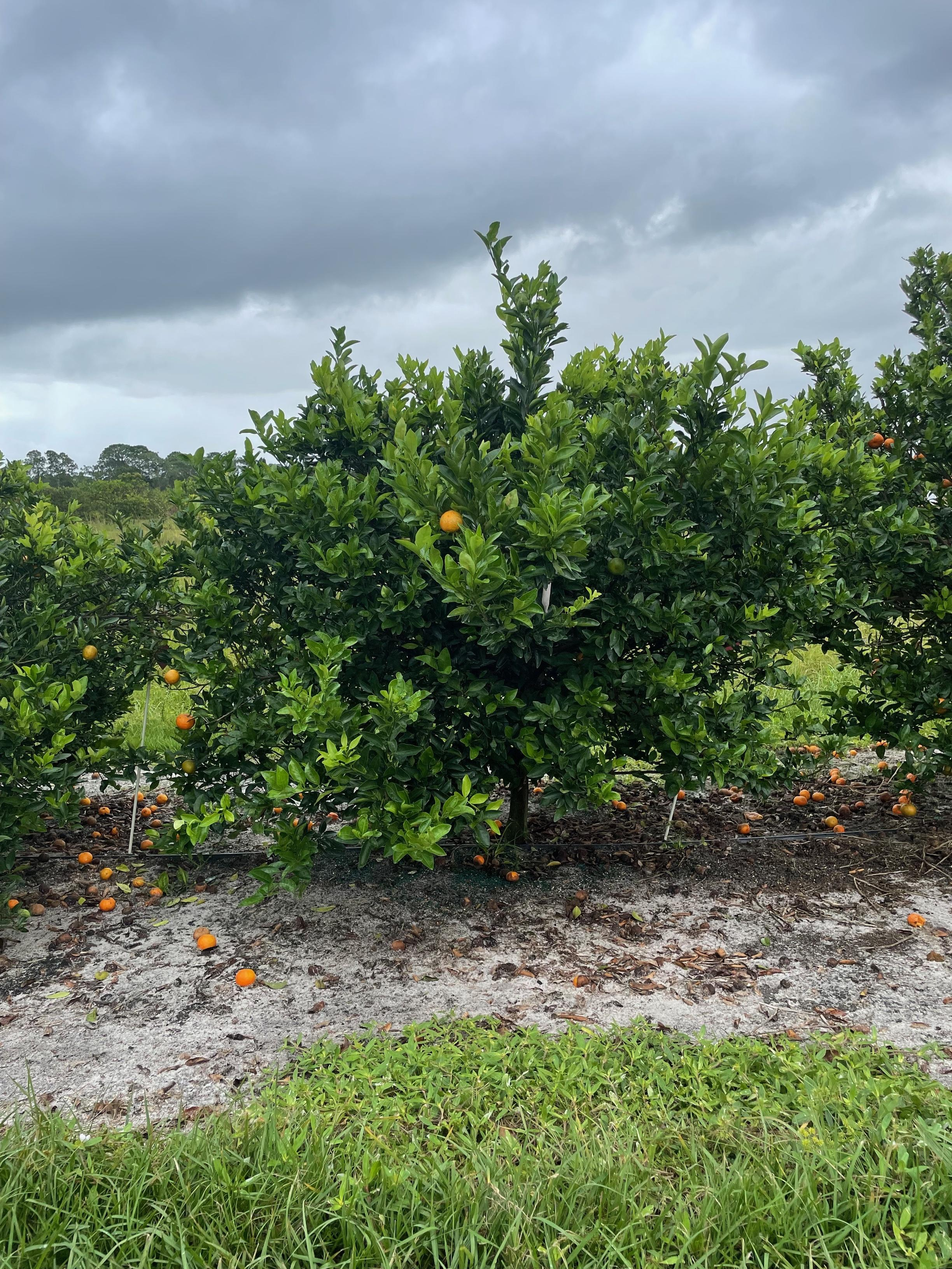fruit_on_ground: (436, 506, 467, 536), (605, 554, 628, 578), (174, 711, 196, 732), (864, 430, 885, 450), (80, 643, 100, 662), (932, 694, 950, 715), (163, 667, 181, 686), (880, 435, 898, 452), (900, 801, 917, 819), (180, 758, 198, 775), (939, 475, 952, 492)
fruit_on_tree: (193, 930, 217, 951), (235, 967, 257, 987), (571, 972, 590, 989), (98, 896, 116, 912), (77, 849, 94, 864), (28, 902, 46, 916), (50, 837, 66, 852), (490, 815, 505, 830), (4, 895, 20, 909), (98, 866, 114, 880), (504, 869, 520, 883), (149, 815, 164, 829), (85, 883, 100, 897), (472, 852, 487, 866), (737, 821, 752, 835), (147, 884, 163, 897), (797, 787, 811, 801), (131, 874, 145, 888), (832, 822, 847, 835), (154, 791, 169, 804), (675, 787, 688, 801), (838, 803, 852, 816), (793, 794, 807, 807), (824, 814, 838, 827), (890, 802, 903, 815), (325, 809, 339, 821), (530, 783, 544, 795), (78, 796, 92, 808), (139, 806, 153, 818), (140, 837, 154, 849), (812, 789, 826, 801), (835, 774, 848, 786), (806, 745, 820, 756), (905, 771, 919, 782), (84, 815, 96, 827), (131, 792, 144, 803), (878, 792, 891, 803), (898, 793, 911, 804), (876, 758, 889, 769), (97, 805, 110, 816), (875, 738, 889, 748), (828, 767, 842, 777), (303, 818, 315, 829), (109, 825, 121, 836), (272, 804, 284, 815), (290, 816, 302, 827), (796, 768, 808, 778), (854, 799, 866, 809), (616, 801, 628, 811), (830, 748, 841, 758), (91, 827, 102, 837), (847, 747, 858, 757), (296, 790, 306, 799)
